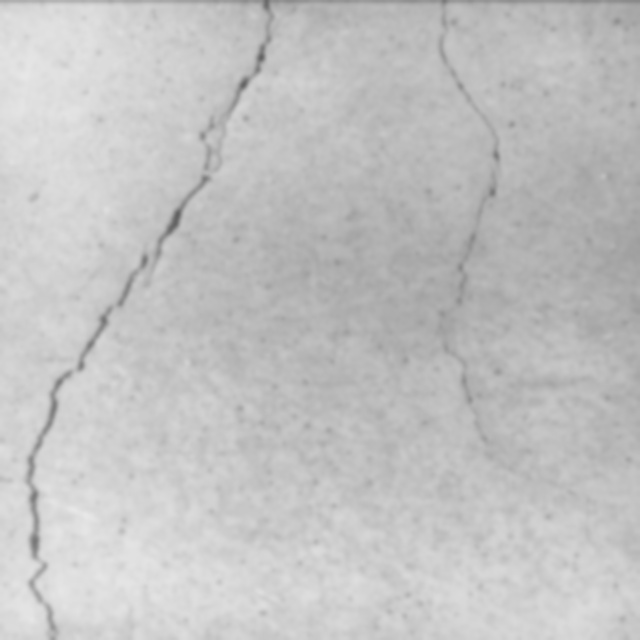SurfaceCrack: (1, 0, 313, 640), (408, 0, 545, 638)
